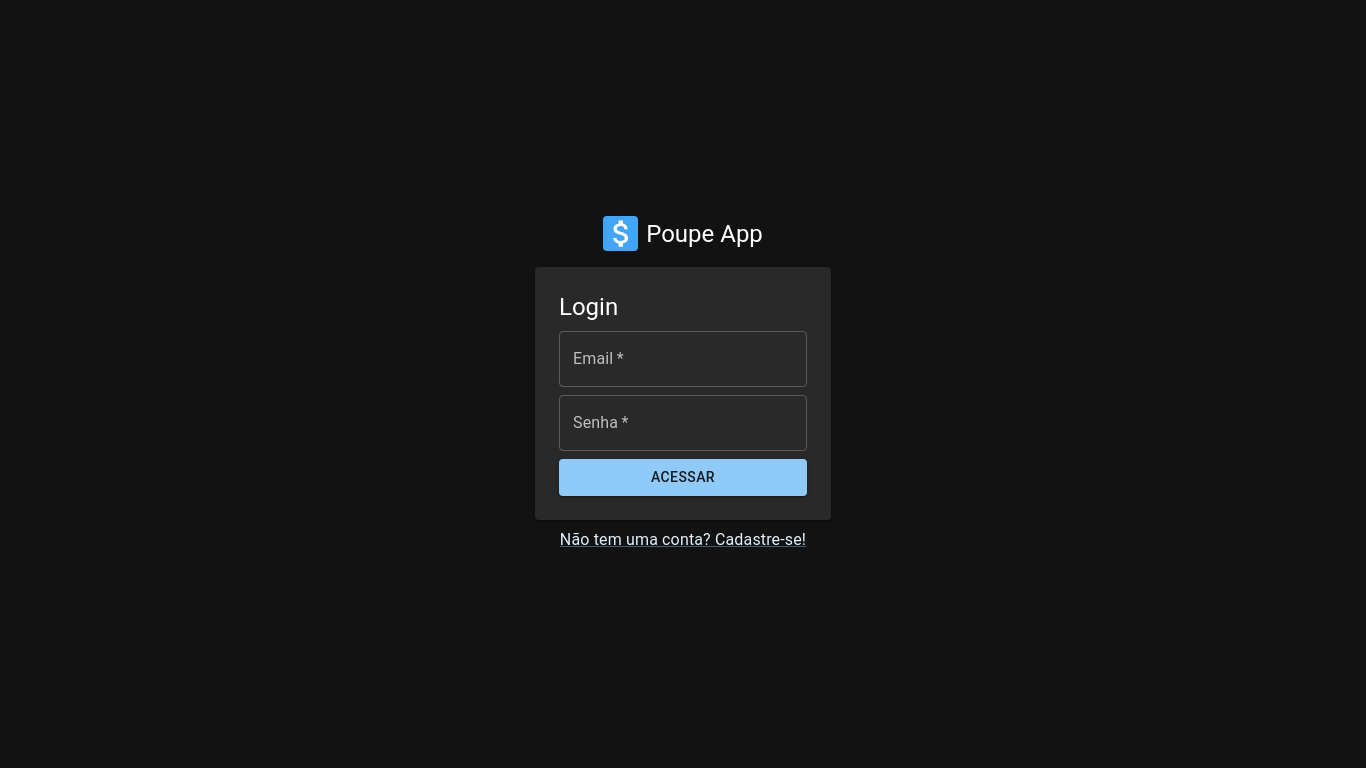
Test case: Register › Different passwords
Click the link "Não tem uma conta? Cadastre-se!" at x=683, y=539, box left=560, top=530, right=806, bottom=549
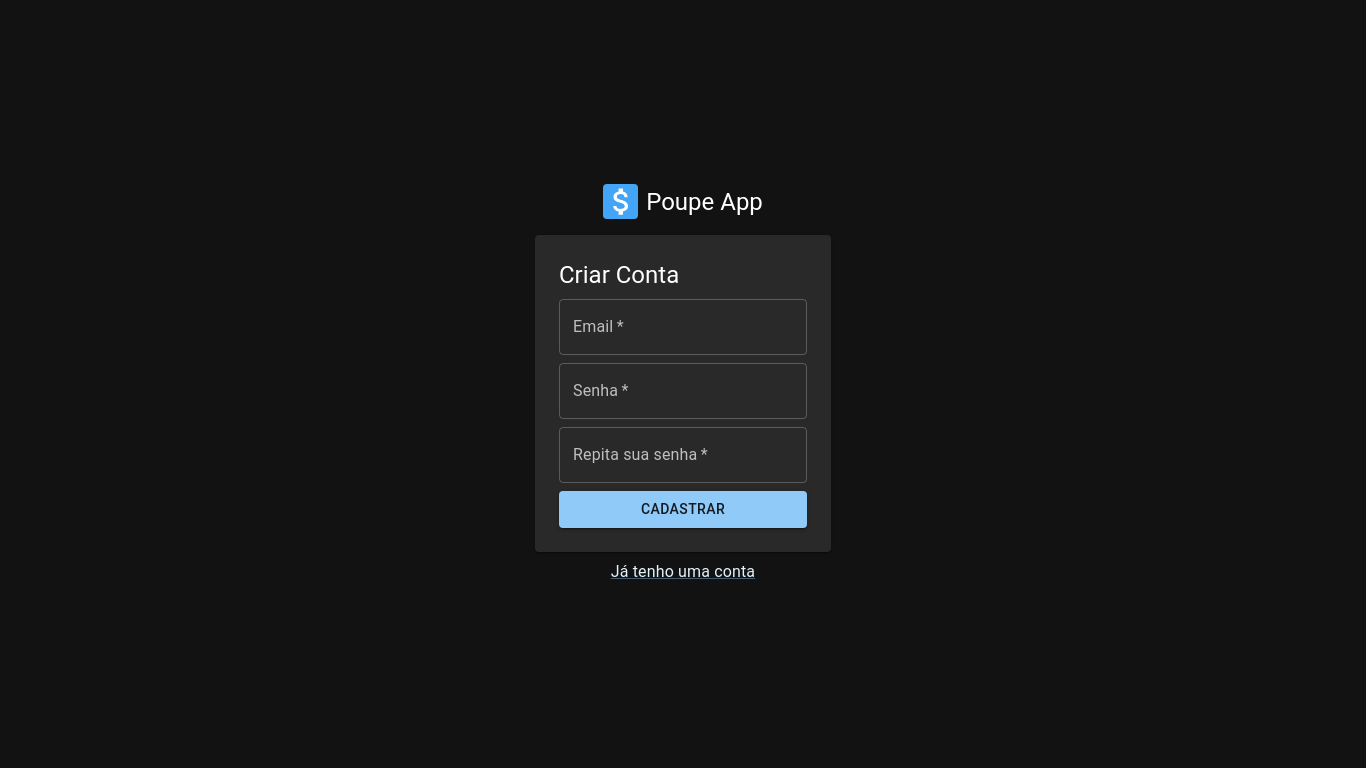
Type "teste@teste.com" into the field labelled "Email *" at x=683, y=327, box left=559, top=299, right=807, bottom=355
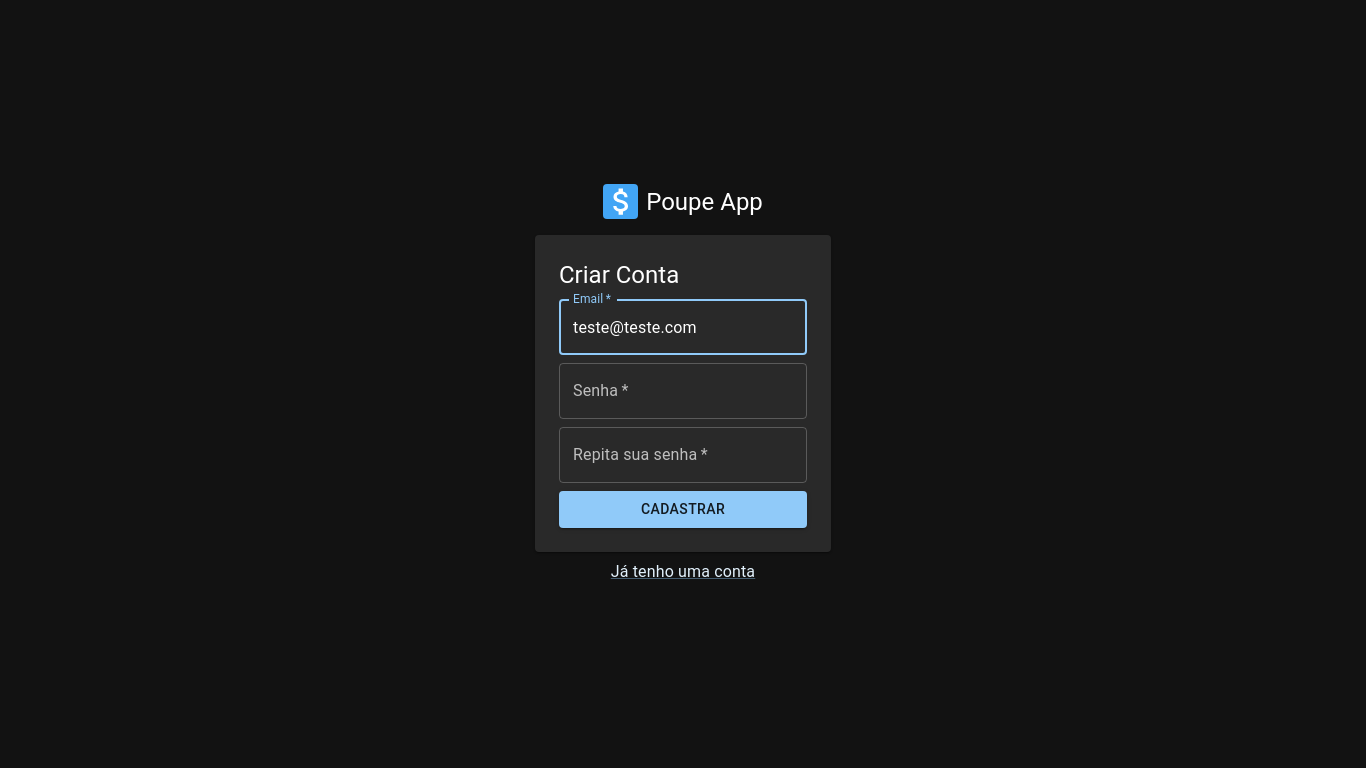
Type "123456" into the password field labelled "Senha *" at x=683, y=391, box left=559, top=363, right=807, bottom=419
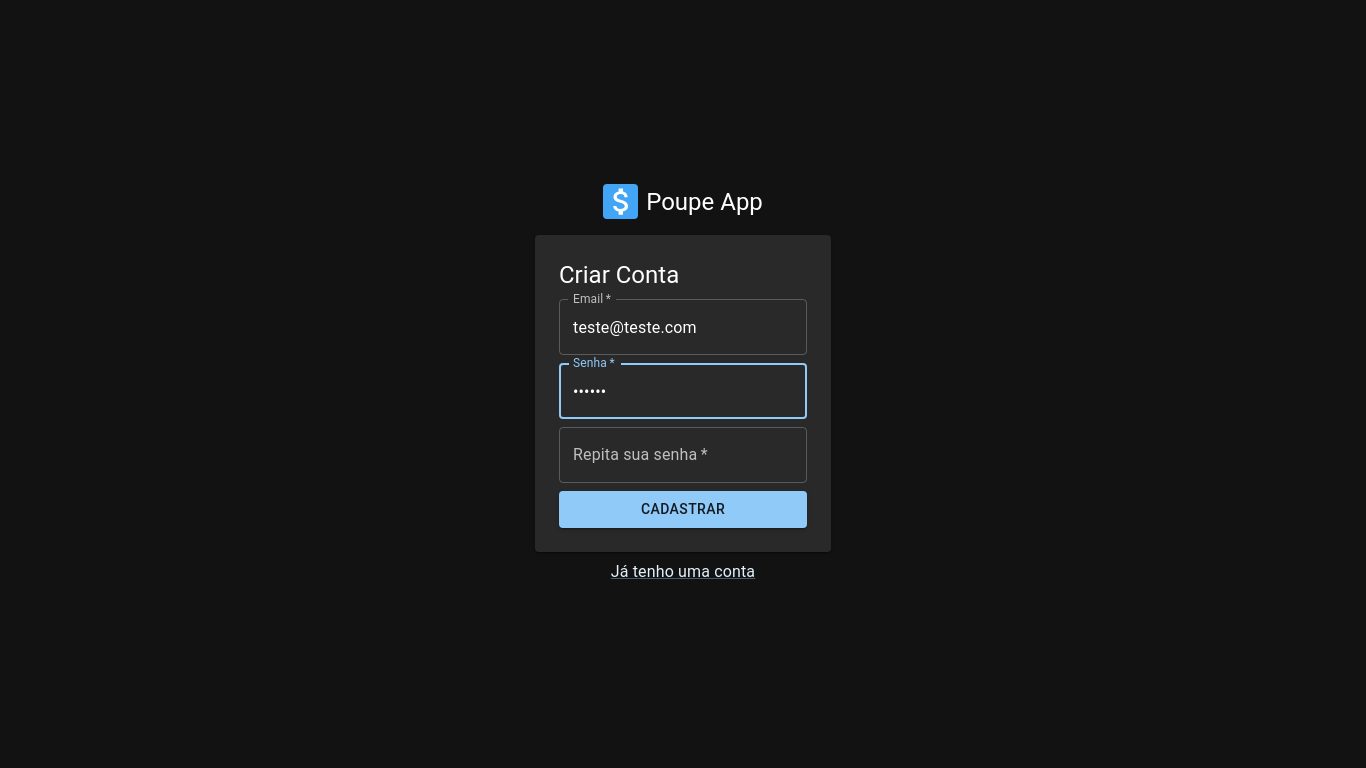
Type "1234567" into the password field labelled "Repita sua senha *" at x=683, y=455, box left=559, top=427, right=807, bottom=483
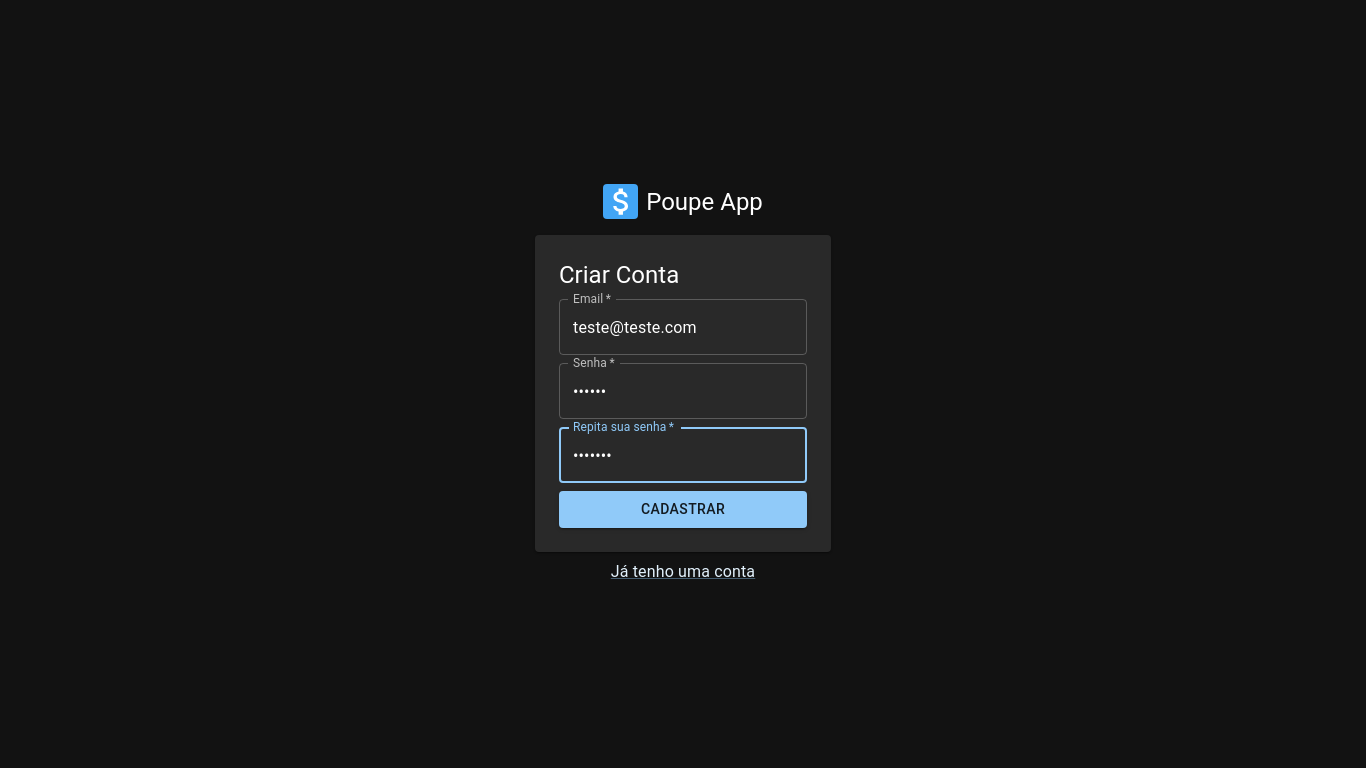
Click the button at x=683, y=510, box left=559, top=491, right=807, bottom=528
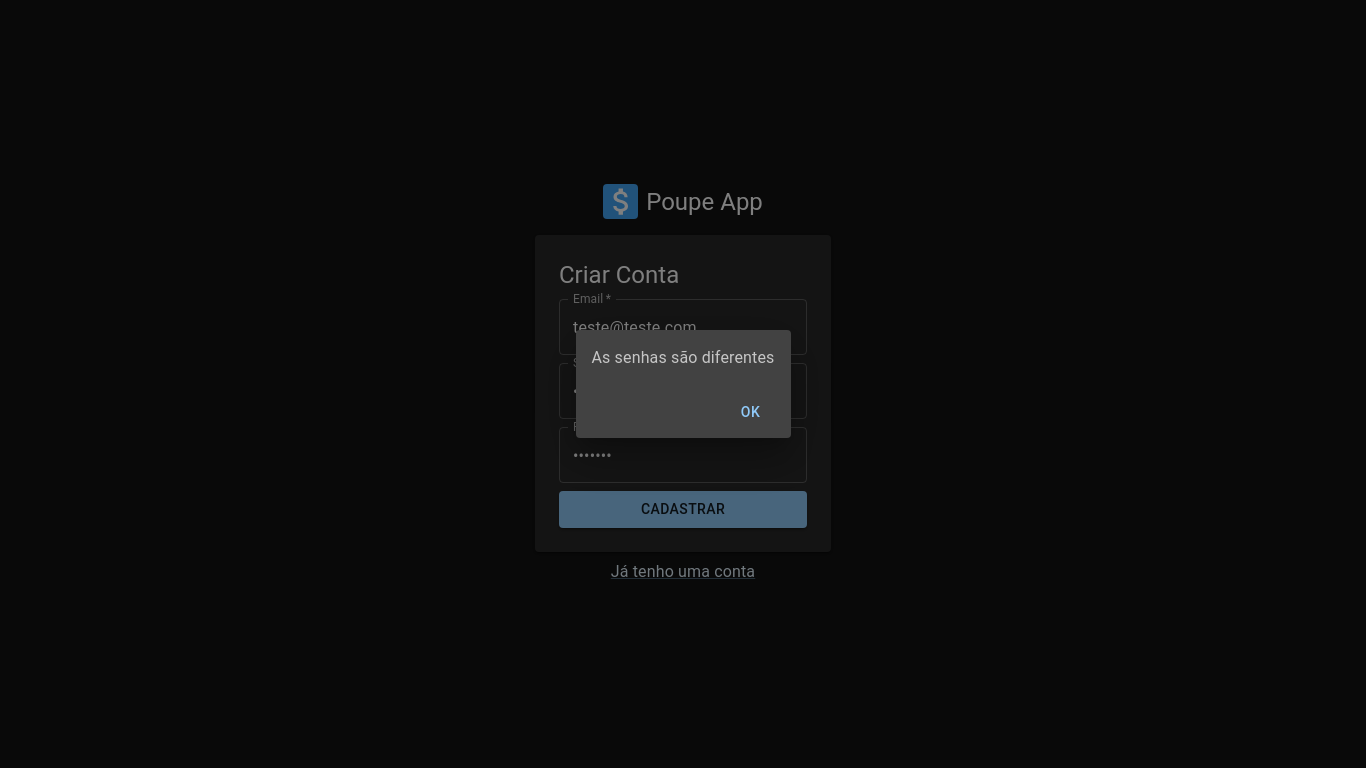
Expected: the text "As senhas são diferentes" is shown, left=592, top=348, right=774, bottom=367
